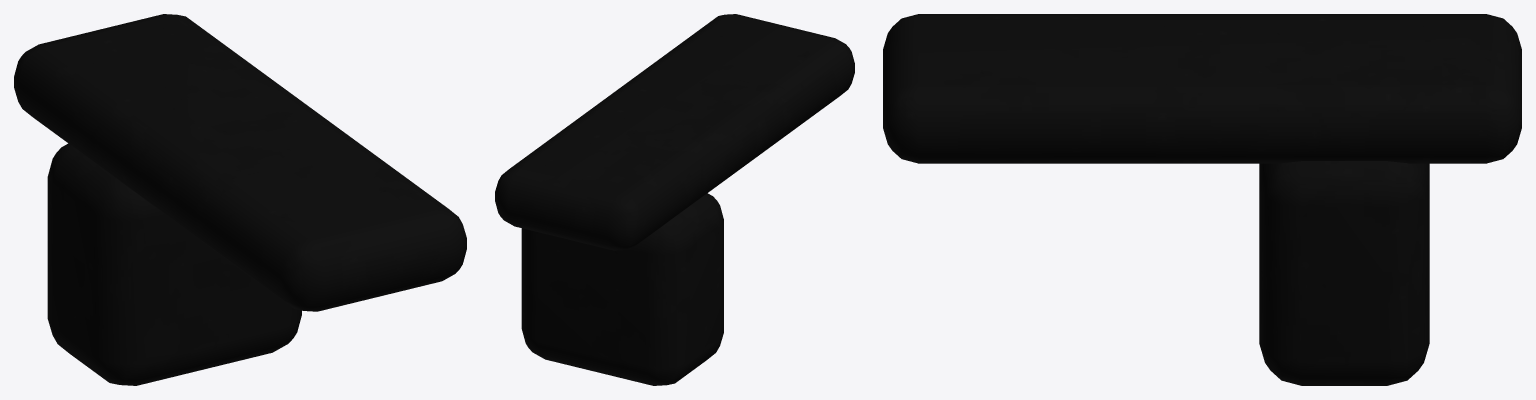
The model's file is fast.gltf.
3 views of the same model, side by side, from view 1: azimuth 30°, elevation 25°; view 2: azimuth 150°, elevation 25°; view 3: azimuth 270°, elevation 25° (orthographic). The views are drawn at different scales.
Parts seen in each view (by area): view 1: Body; view 2: Body; view 3: Body.
Boxes of the visible parts, <box> form: Body: <box>14,14,466,385</box>; Body: <box>495,14,854,385</box>; Body: <box>883,14,1521,385</box>.
Bounding box in the file's own units: 0.018 × 0.023 × 0.045.
1 material, 1 textured.
